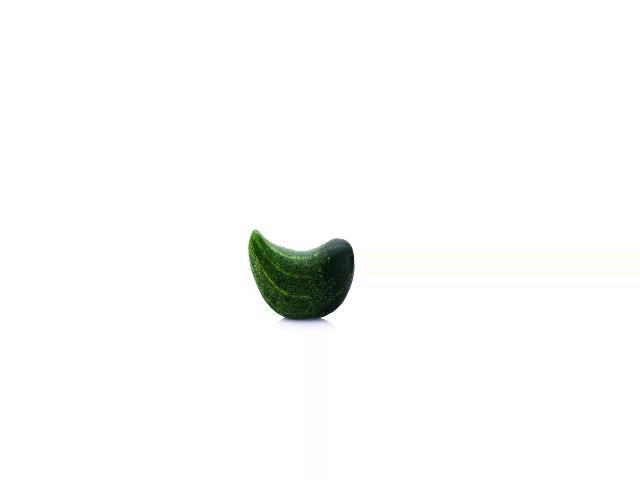cucumber: (247, 230, 354, 319)
